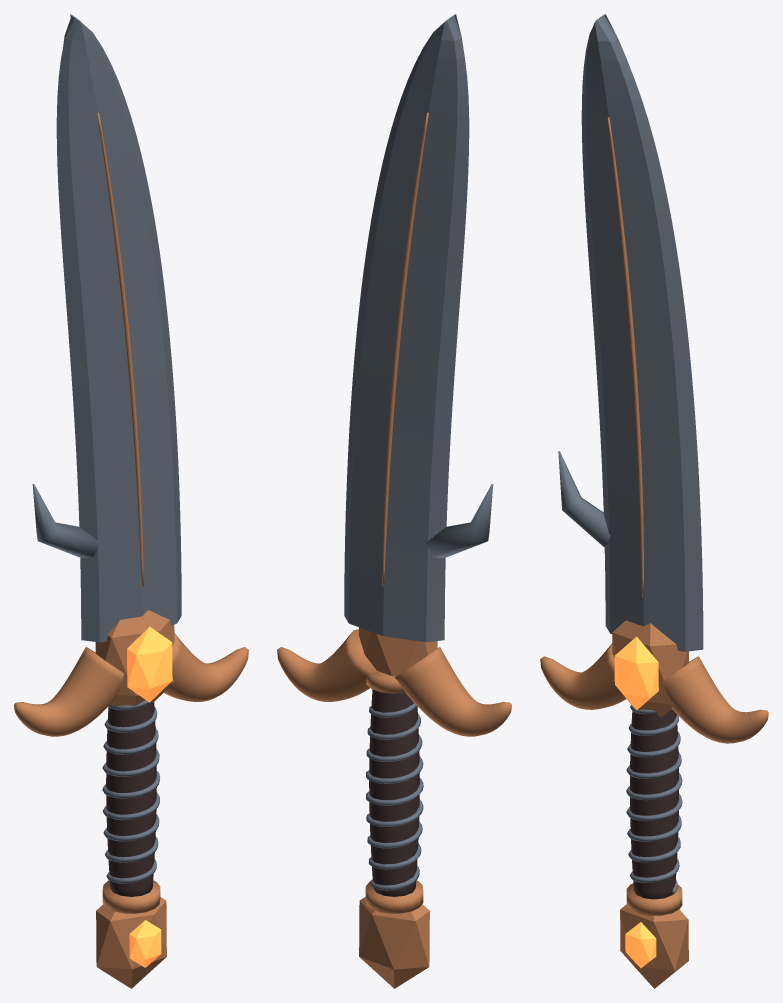
Rendered from ember_ash_sword.glb.
3 views of the same model, side by side, from view 1: azimuth 30°, elevation 25°; view 2: azimuth 150°, elevation 25°; view 3: azimuth 330°, elevation 25° (orthographic). The views are drawn at different scales.
Parts seen in each view (by area): view 1: Ashforged Sword blade, Tapered leather grip.007, Swept guard wing.014, Faceted pommel.007, Helical grip binding.007, Swept guard wing.015, Guard socket.007, Guard gemstone.007, Curved fuller inlay.014, Hooked edge spur.006, Pommel inset.007, Grip collar.014; view 2: Ashforged Sword blade, Tapered leather grip.007, Swept guard wing.014, Faceted pommel.007, Swept guard wing.015, Helical grip binding.007, Guard socket.007, Curved fuller inlay.015, Hooked edge spur.006, Grip collar.014, Grip collar.015; view 3: Ashforged Sword blade, Tapered leather grip.007, Swept guard wing.015, Faceted pommel.007, Helical grip binding.007, Swept guard wing.014, Guard socket.007, Guard gemstone.007, Curved fuller inlay.014, Hooked edge spur.006, Grip collar.014, Pommel inset.007.
Part boxes in pixels (bbox=[...]): Ashforged Sword blade: bbox=[56, 14, 181, 642]; Tapered leather grip.007: bbox=[106, 701, 156, 896]; Swept guard wing.014: bbox=[14, 647, 123, 736]; Faceted pommel.007: bbox=[96, 897, 166, 988]; Helical grip binding.007: bbox=[102, 699, 160, 883]; Swept guard wing.015: bbox=[164, 633, 248, 701]; Guard socket.007: bbox=[95, 610, 174, 706]; Guard gemstone.007: bbox=[127, 626, 172, 702]; Curved fuller inlay.014: bbox=[97, 112, 143, 586]; Hooked edge spur.006: bbox=[32, 484, 99, 558]; Pommel inset.007: bbox=[129, 920, 161, 967]; Grip collar.014: bbox=[102, 880, 160, 913]; Ashforged Sword blade: bbox=[344, 14, 469, 642]; Tapered leather grip.007: bbox=[369, 689, 419, 896]; Swept guard wing.014: bbox=[395, 647, 511, 736]; Faceted pommel.007: bbox=[359, 897, 429, 988]; Swept guard wing.015: bbox=[277, 629, 376, 701]; Helical grip binding.007: bbox=[365, 703, 423, 890]; Guard socket.007: bbox=[359, 627, 437, 676]; Curved fuller inlay.015: bbox=[382, 112, 428, 586]; Hooked edge spur.006: bbox=[426, 484, 493, 558]; Grip collar.014: bbox=[365, 880, 423, 913]; Grip collar.015: bbox=[366, 670, 405, 693]; Ashforged Sword blade: bbox=[581, 14, 703, 651]; Tapered leather grip.007: bbox=[629, 709, 679, 899]; Swept guard wing.015: bbox=[661, 656, 768, 743]; Faceted pommel.007: bbox=[620, 904, 688, 988]; Helical grip binding.007: bbox=[626, 705, 682, 894]; Swept guard wing.014: bbox=[540, 643, 625, 709]; Guard socket.007: bbox=[612, 620, 688, 717]; Guard gemstone.007: bbox=[614, 636, 658, 710]; Curved fuller inlay.014: bbox=[607, 117, 643, 597]; Hooked edge spur.006: bbox=[558, 451, 610, 547]; Grip collar.014: bbox=[626, 883, 682, 915]; Pommel inset.007: bbox=[625, 922, 656, 968].
Bounding box in the file's own units: 1.26 × 5.05 × 0.3739.
